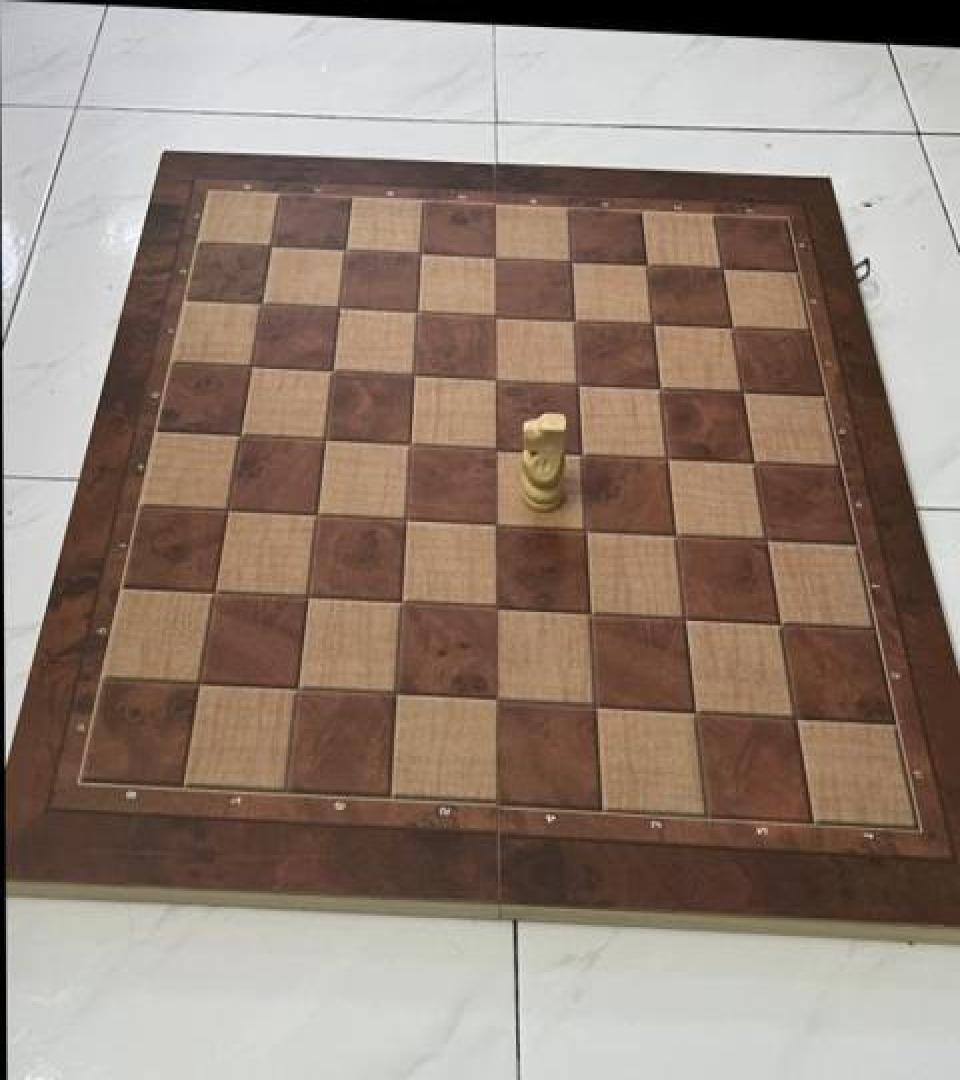xcorner: (330, 228, 366, 269), (479, 236, 515, 277), (706, 246, 742, 287), (245, 282, 281, 323), (401, 290, 437, 331), (558, 298, 594, 339), (235, 345, 271, 386), (397, 353, 433, 394), (561, 361, 597, 402), (726, 370, 762, 411), (308, 417, 344, 458), (479, 426, 515, 467), (651, 435, 687, 476), (211, 488, 247, 529), (389, 497, 425, 538), (568, 507, 604, 548), (749, 516, 785, 557), (197, 570, 233, 611), (478, 586, 514, 627), (668, 596, 704, 637), (280, 667, 316, 708), (478, 678, 514, 719), (778, 695, 814, 736), (255, 225, 291, 265), (404, 232, 440, 272), (555, 240, 591, 280), (630, 243, 666, 283), (323, 286, 359, 326), (479, 294, 515, 334), (636, 302, 672, 342), (715, 306, 751, 346), (316, 349, 352, 389), (479, 357, 515, 397), (643, 366, 679, 406), (223, 413, 259, 453), (393, 422, 429, 462), (565, 431, 601, 471), (737, 440, 773, 480), (300, 493, 336, 533), (479, 502, 515, 542), (659, 512, 695, 552), (290, 575, 326, 615), (384, 581, 420, 621), (573, 591, 609, 631), (763, 602, 799, 642), (182, 662, 218, 702), (379, 673, 415, 713), (578, 684, 614, 724), (678, 690, 714, 730)
